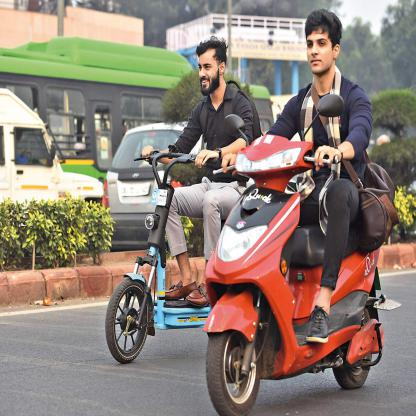car: (100, 126, 193, 247)
motorcycle: (205, 9, 393, 416), (105, 36, 265, 364)
